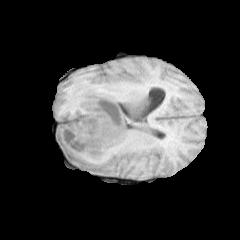glioma: (57, 79, 129, 172)
